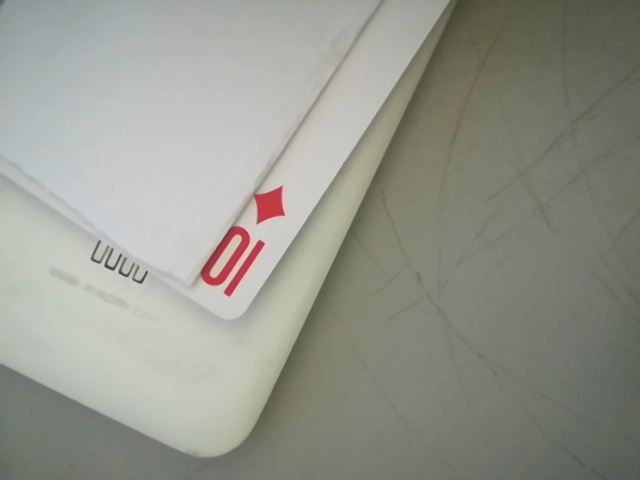fk 10: (189, 178, 301, 309)
